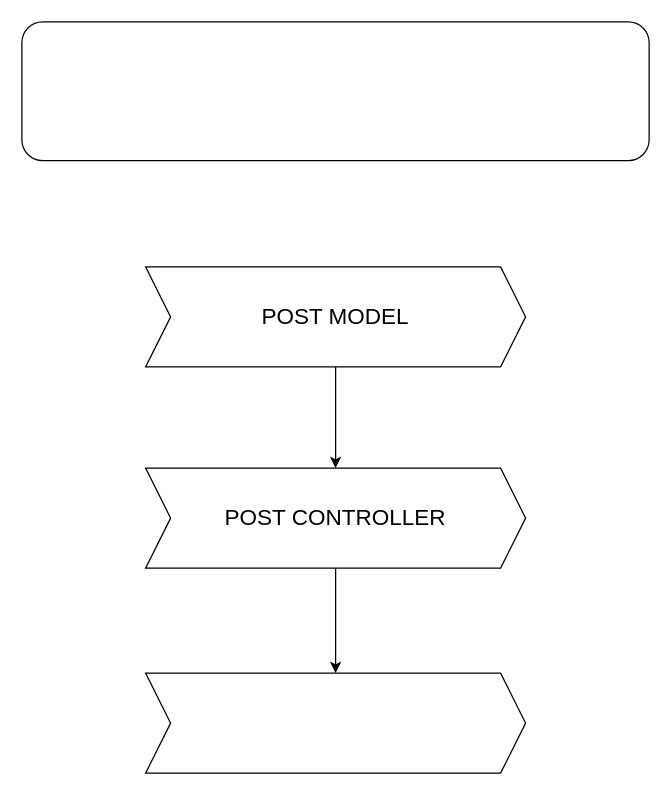
The diagram is 671 pixels wide and 795 high, and some of its shapes have lost their labels. Here are the shapes that lost their labels. From the top down, the box of each, then its label:
(21, 21, 649, 161): Post Routes Creation Face
(144, 672, 526, 773): POST ROUTES
